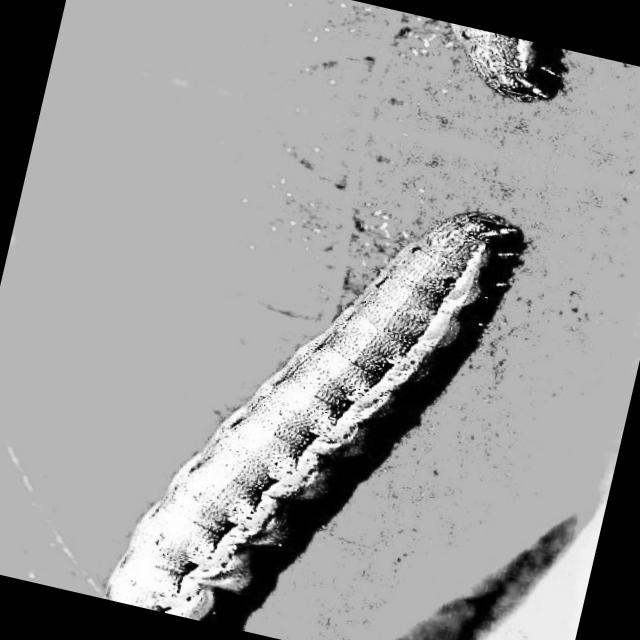Armyworm: (54, 130, 569, 640), (406, 17, 594, 141)
